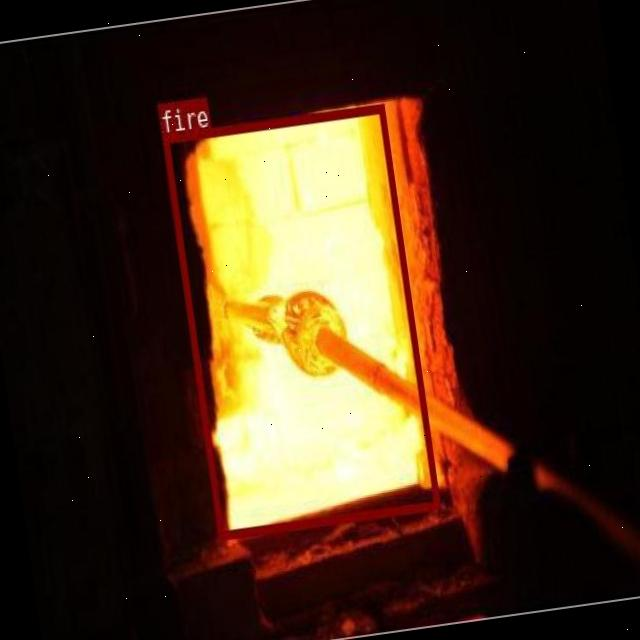fire: (162, 102, 440, 538)
